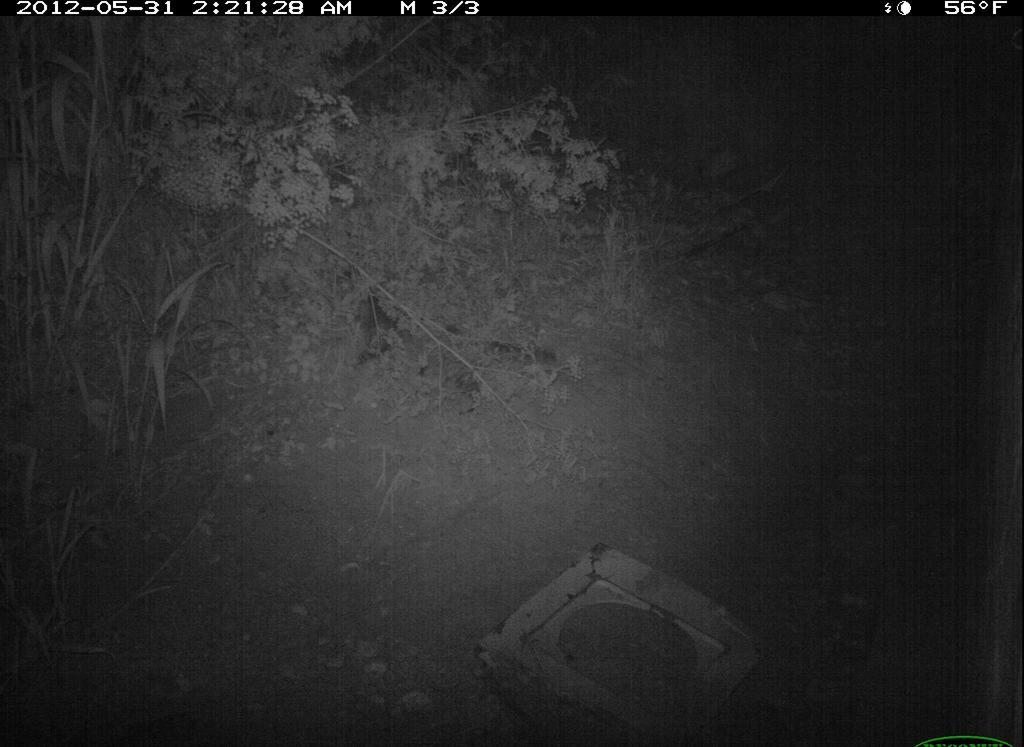cat: (338, 253, 575, 434)
